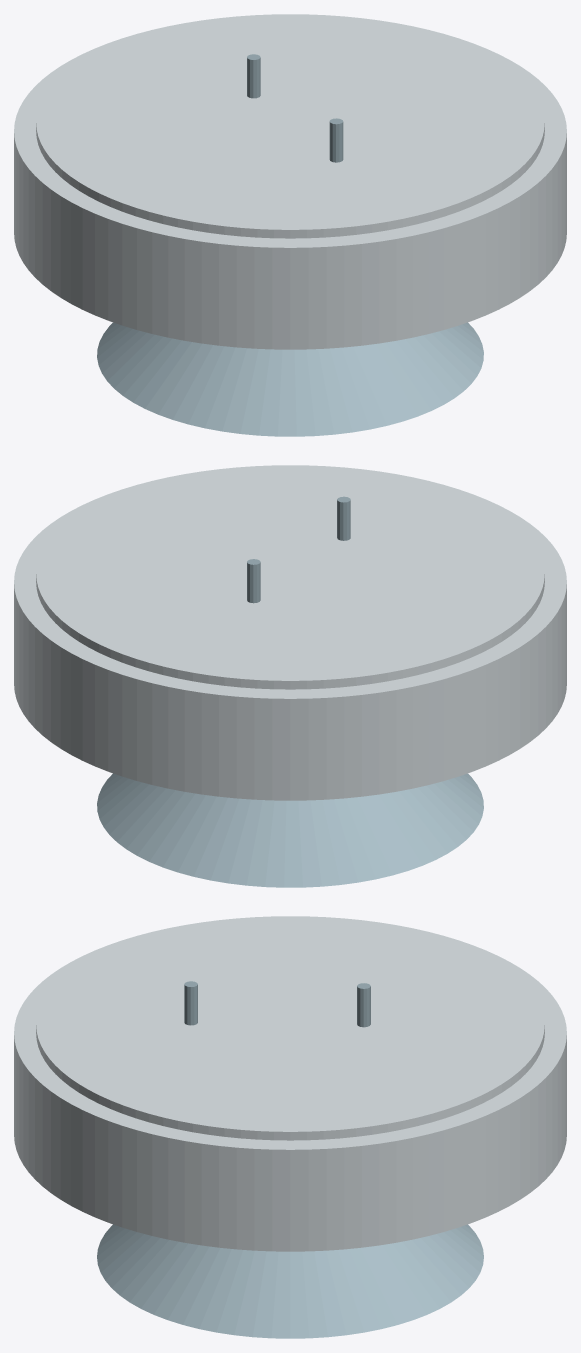
Rendered from 06_mechanikstadt.glb.
3 views of the same model, one above another, from view 1: azimuth 30°, elevation 25°; view 2: azimuth 150°, elevation 25°; view 3: azimuth 270°, elevation 25° (orthographic).
Visible parts, largest first — view 1: GrassTop, Island, IslandDrip, Pipe1, Pipe0; view 2: GrassTop, Island, IslandDrip, Pipe1, Pipe0; view 3: GrassTop, Island, IslandDrip, Pipe1, Pipe0.
Boxes of the visible parts, left/top/right/bottom form: GrassTop: left=36, top=15, right=544, bottom=238; Island: left=14, top=14, right=566, bottom=349; IslandDrip: left=97, top=322, right=483, bottom=436; Pipe1: left=329, top=118, right=343, bottom=162; Pipe0: left=247, top=54, right=260, bottom=98; GrassTop: left=36, top=466, right=544, bottom=689; Island: left=14, top=465, right=566, bottom=800; IslandDrip: left=97, top=773, right=483, bottom=887; Pipe1: left=337, top=496, right=350, bottom=540; Pipe0: left=247, top=559, right=260, bottom=603; GrassTop: left=36, top=917, right=544, bottom=1140; Island: left=14, top=916, right=566, bottom=1251; IslandDrip: left=97, top=1224, right=483, bottom=1338; Pipe1: left=184, top=981, right=197, bottom=1025; Pipe0: left=357, top=983, right=370, bottom=1027.
Size of the model in its own units: 6.4 by 3.46 by 6.4.
